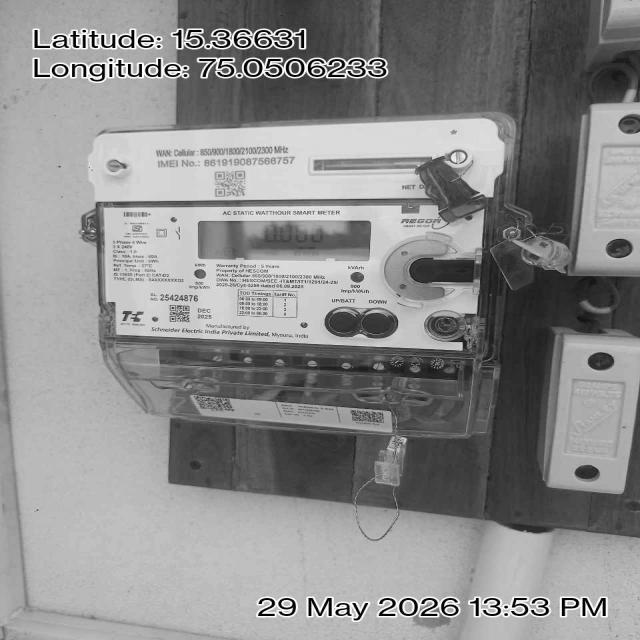meter: (94, 128, 494, 355)
